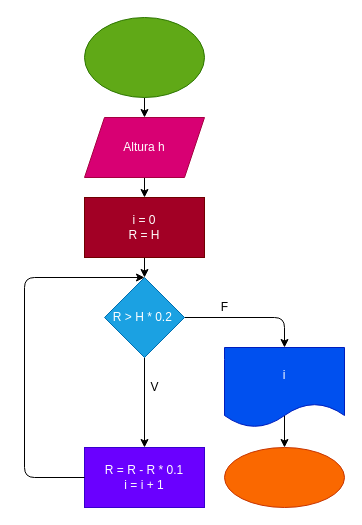
Image size: 362x525. Some labels were removed from this diagram. Each missing label, with the centre of its shape:
"FIN" goes at (284,477).
"INICIO" goes at (144,57).
